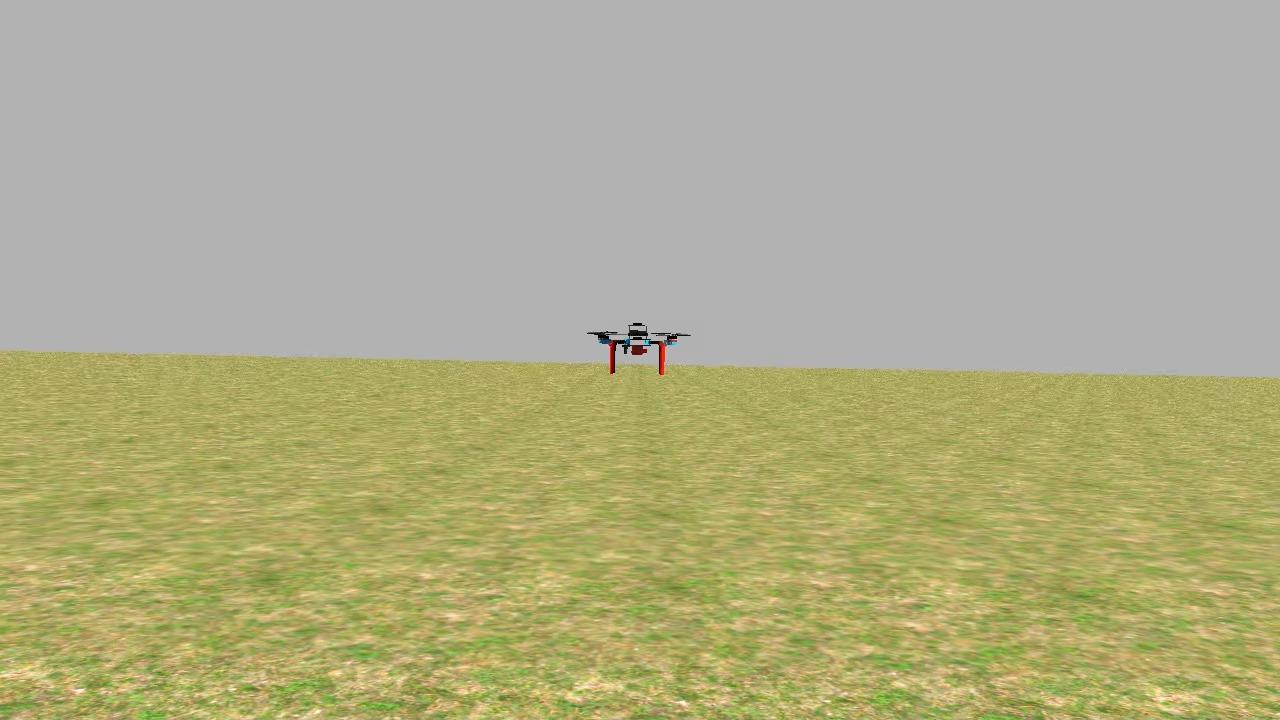UAV: (586, 318, 696, 390)
